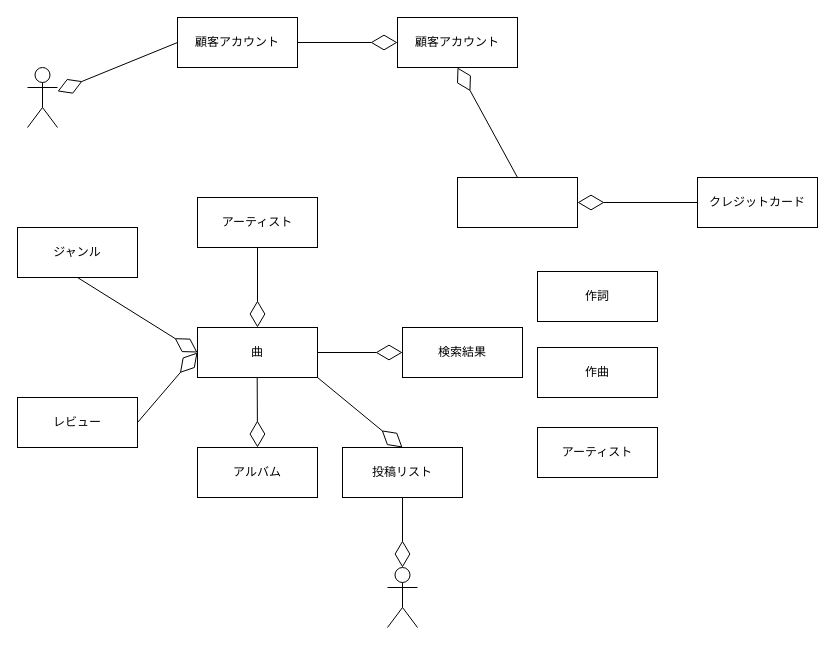
Some shapes in this 835 by 666 pixel diagram are drawn without their labels. The shapes that lost their labels are listed below. From the top down, each one's centre as x and y in pixels, then its label:
(x=42, y=97): 顧客
(x=517, y=202): 購入
(x=402, y=597): 投稿者
